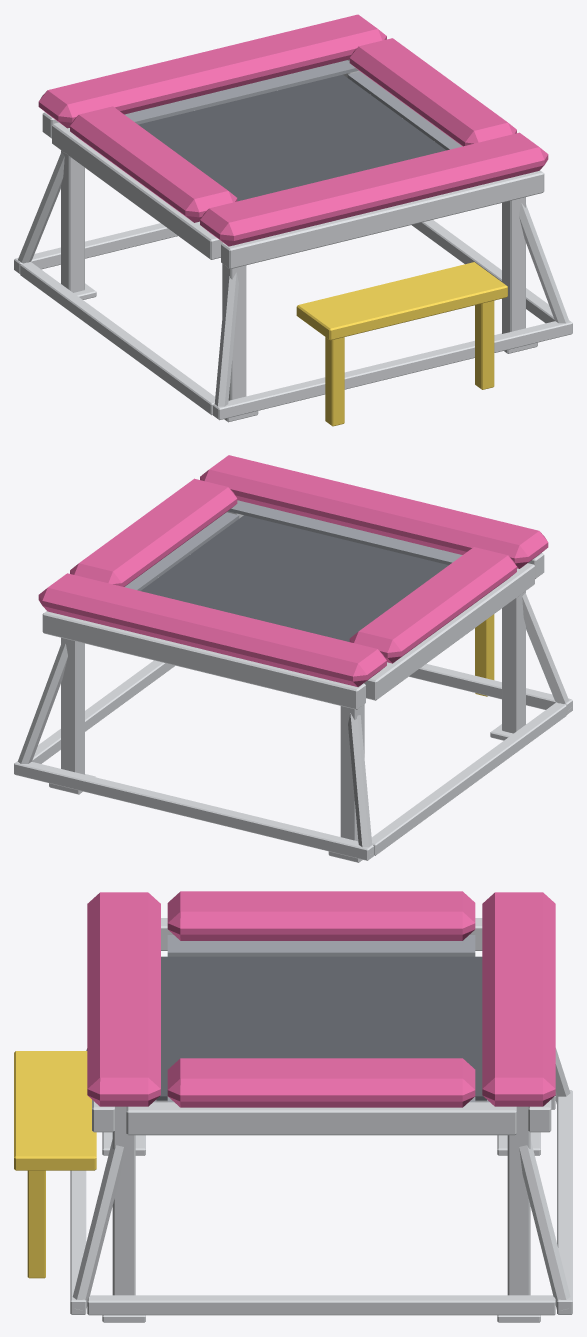
The model's file is trampoline-park-and-soft-play-performance-trampoline-db8aa224__34606.glb.
3 views of the same model, one above another, from view 1: azimuth 30°, elevation 25°; view 2: azimuth 150°, elevation 25°; view 3: azimuth 270°, elevation 25° (orthographic). The views are drawn at different scales.
Parts seen in each view (by area): view 1: performance-trampoline; view 2: performance-trampoline; view 3: performance-trampoline.
Boxes of the visible parts, bbox=[...] form: performance-trampoline: bbox=[14, 14, 572, 426]; performance-trampoline: bbox=[14, 455, 572, 862]; performance-trampoline: bbox=[14, 891, 572, 1322].
Bounding box in the file's own units: 2.19 × 1.18 × 2.44.
